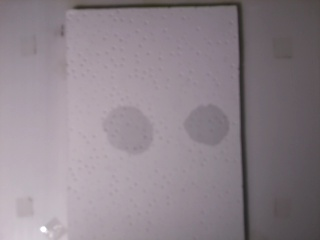Water_detected: (102, 112, 142, 154), (197, 114, 222, 143)
